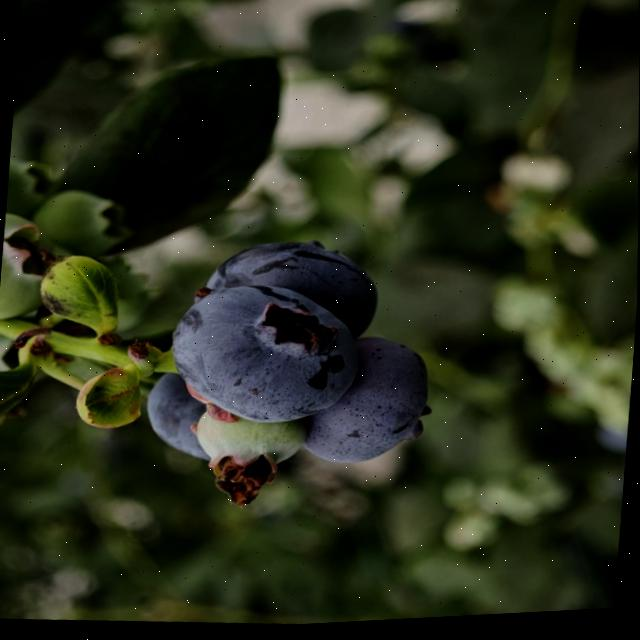RipeBlueBerry: (166, 277, 364, 436), (198, 233, 385, 343), (303, 331, 432, 474)
UnripeBlueBerry: (186, 399, 310, 500)
